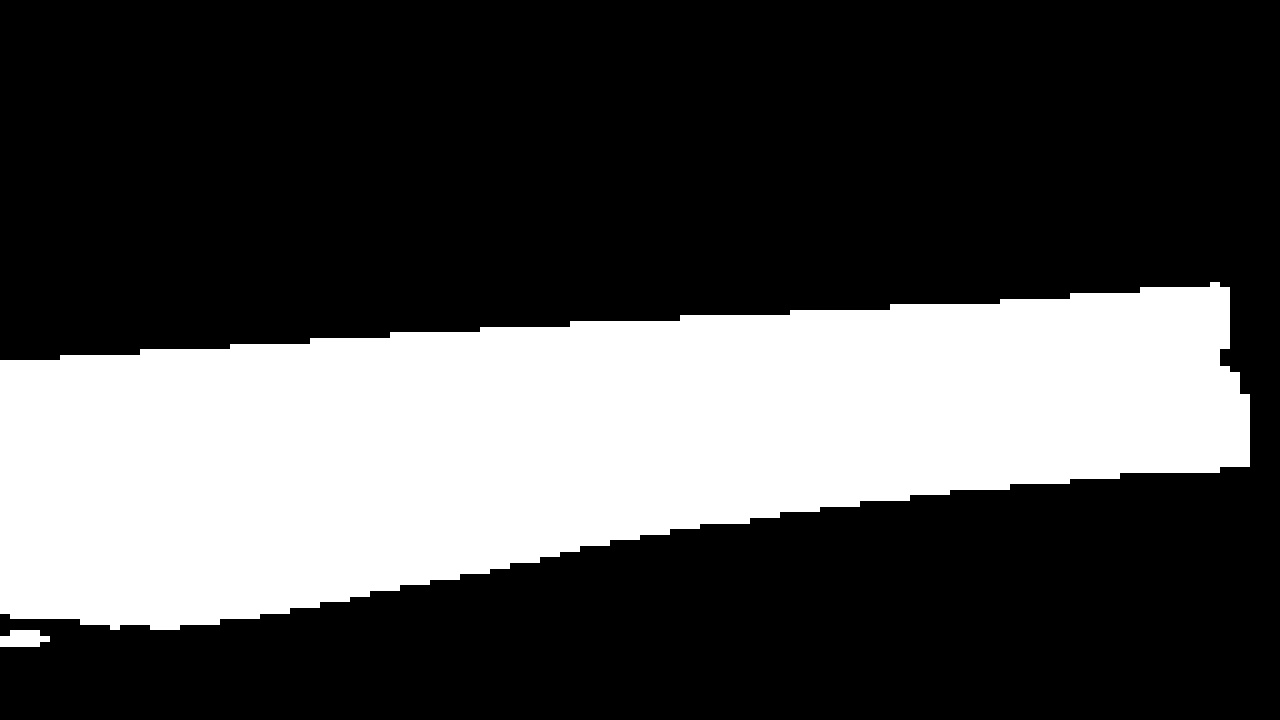Turbine: (8, 243, 1227, 672)
